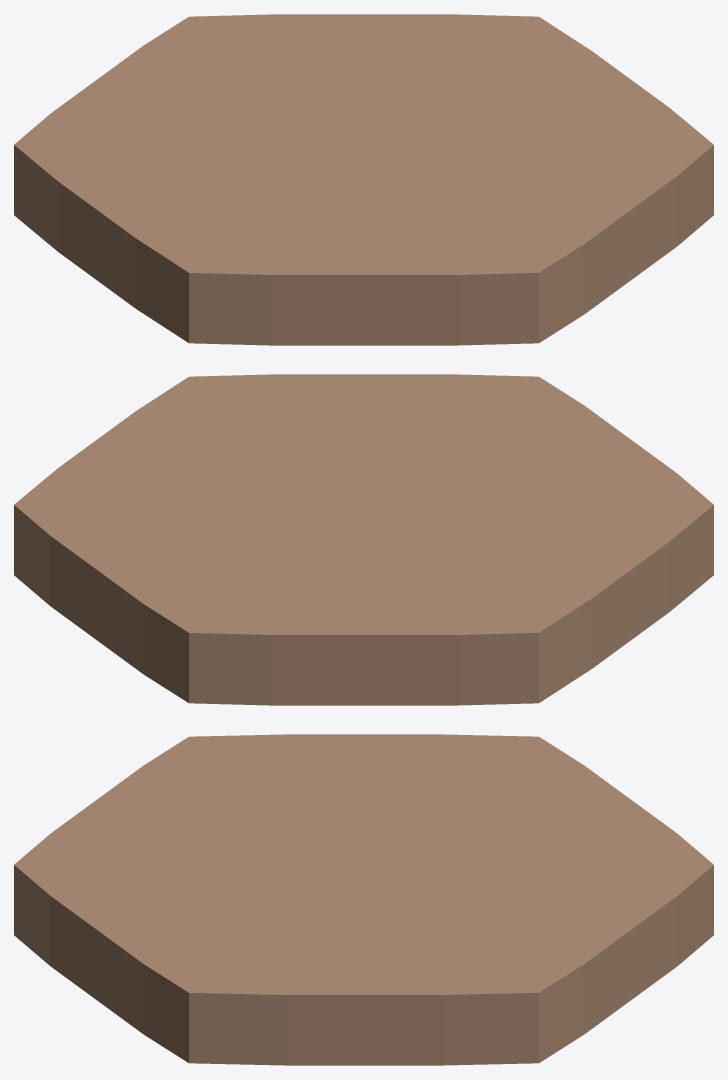
Rendered from Hexagon.fbx.
3 views of the same model, one above another, from view 1: azimuth 30°, elevation 25°; view 2: azimuth 150°, elevation 25°; view 3: azimuth 270°, elevation 25° (orthographic).
Parts seen in each view (by area): view 1: hex; view 2: hex; view 3: hex.
Boxes of the visible parts, bbox=[...] form: hex: bbox=[14, 14, 713, 345]; hex: bbox=[14, 374, 713, 705]; hex: bbox=[14, 734, 713, 1065].
Bounding box in the file's own units: 396 × 50 × 450.
